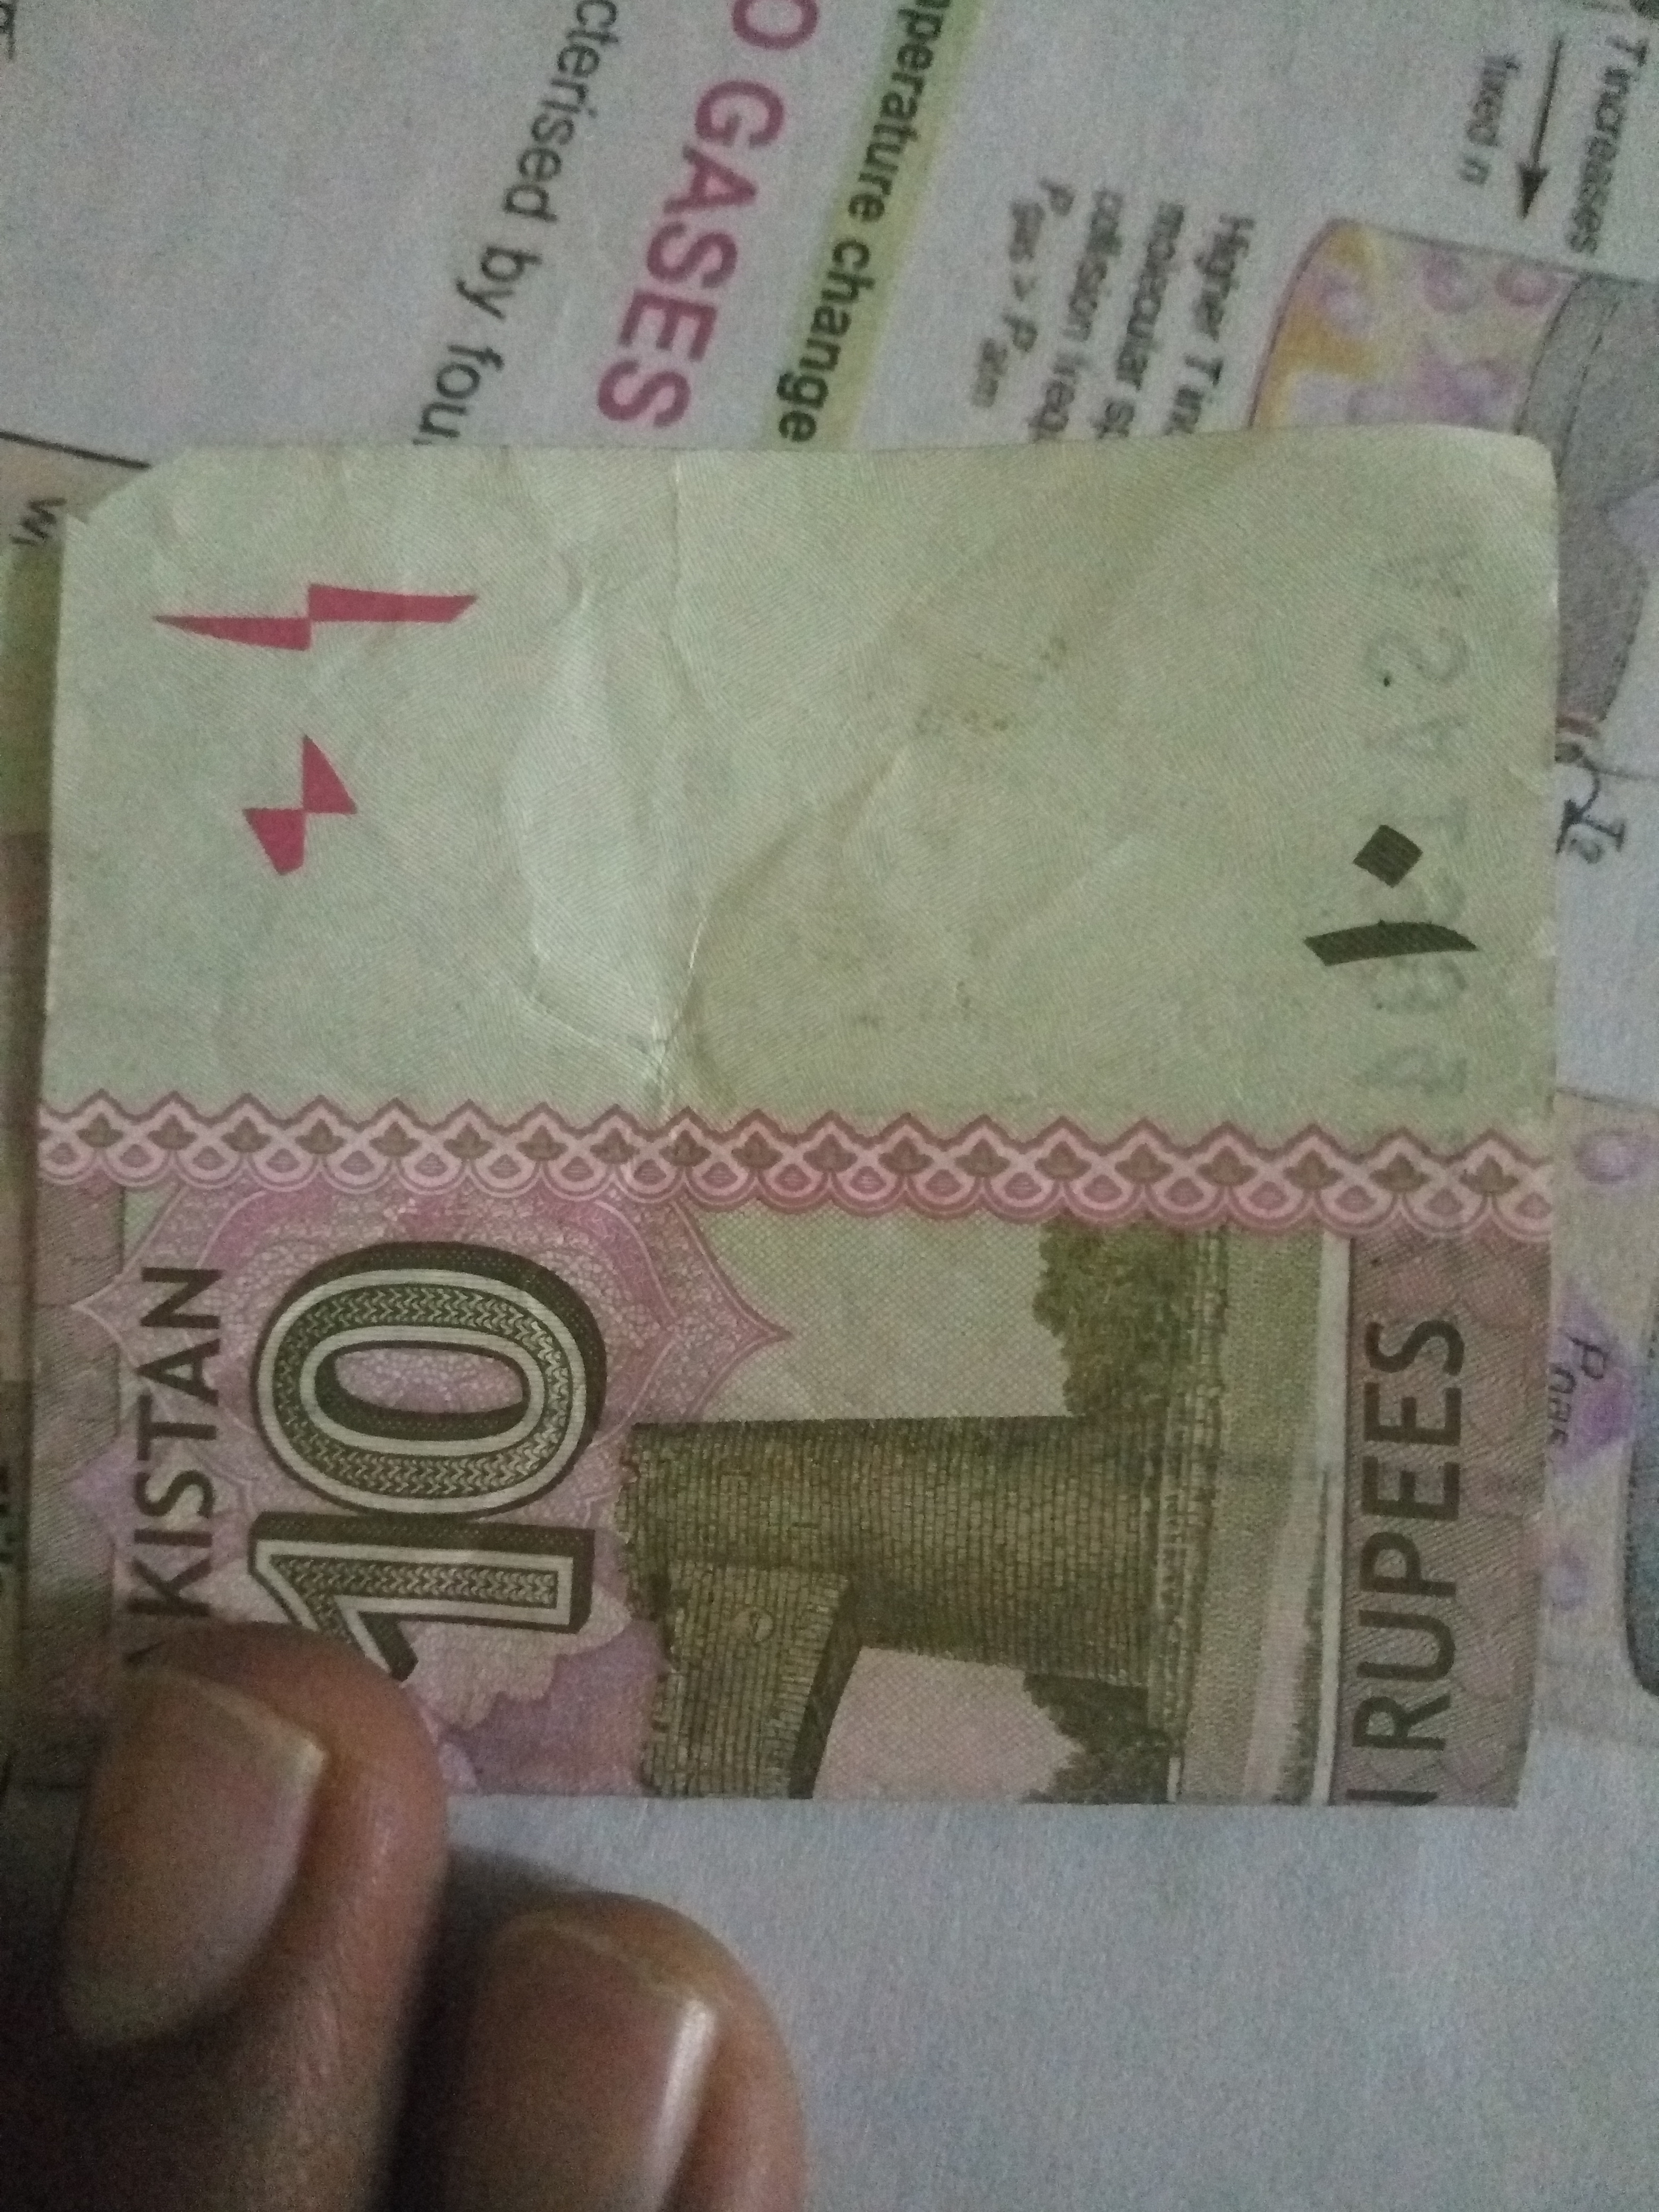10 rupee: (44, 415, 1568, 1822)
